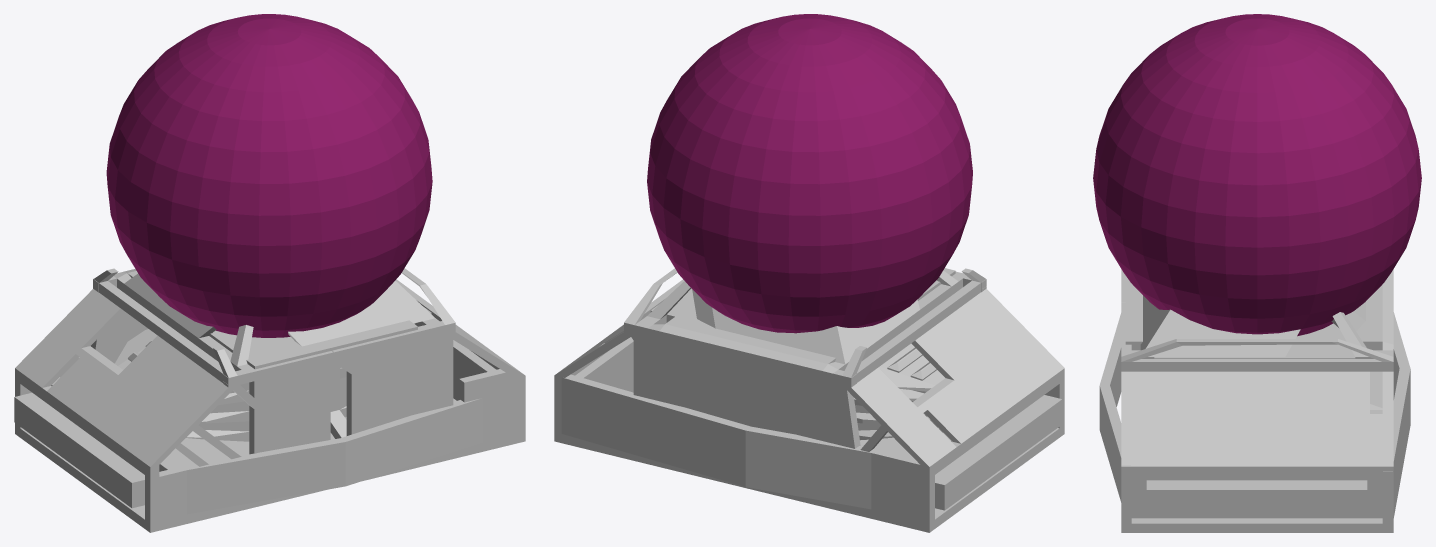
File: Radar_A_Large_Constr3.fbx
The picture shows the model from 3 angles, left to right: view 1: azimuth 30°, elevation 25°; view 2: azimuth 150°, elevation 25°; view 3: azimuth 270°, elevation 25°; orthographic projection.
Visible parts, largest first — view 1: Cube.010, Sphere, Cube.009; view 2: Cube.010, Sphere, Cube.009; view 3: Sphere, Cube.010.
Part boxes in pixels (bbox=[...]): Cube.010: bbox=[14, 268, 525, 532]; Sphere: bbox=[106, 14, 432, 337]; Cube.009: bbox=[114, 329, 346, 441]; Cube.010: bbox=[554, 268, 1064, 532]; Sphere: bbox=[647, 14, 972, 333]; Cube.009: bbox=[854, 343, 944, 440]; Sphere: bbox=[1093, 14, 1421, 336]; Cube.010: bbox=[1099, 269, 1410, 532].
Size of the model in its own units: 7.1 by 7.11 by 5.12.
